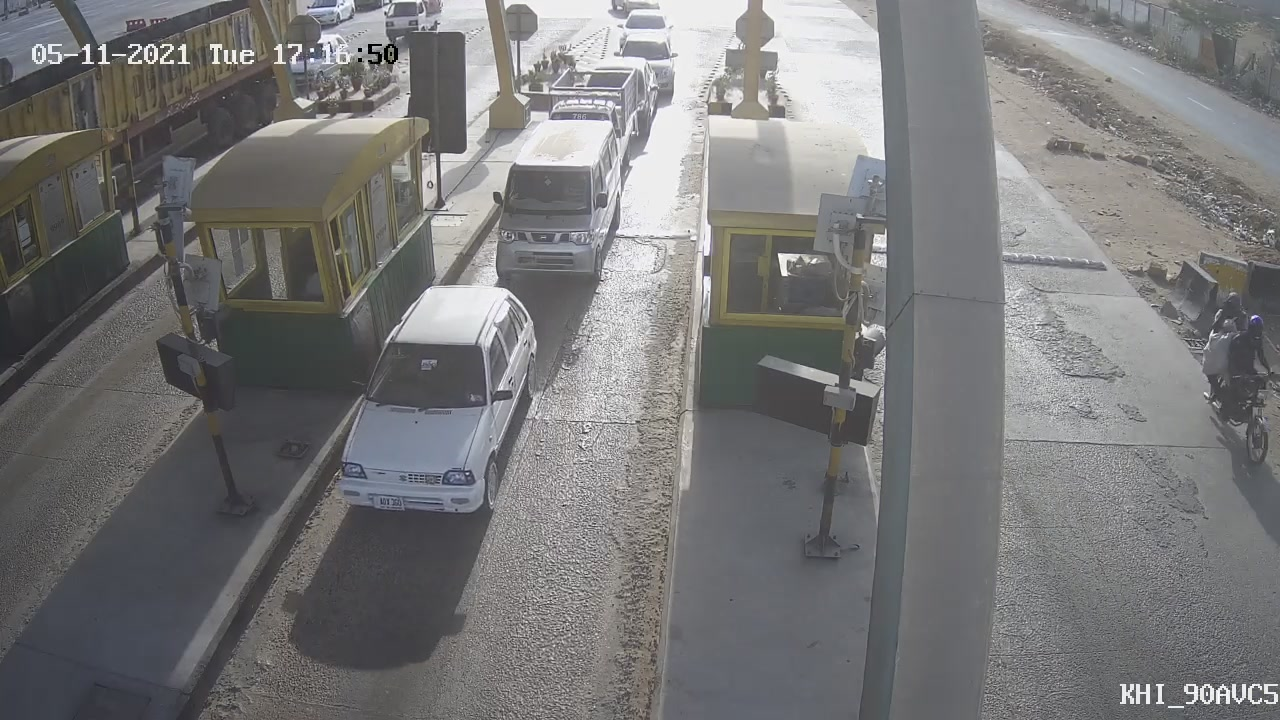F1: (312, 265, 559, 536), (472, 108, 640, 304)
